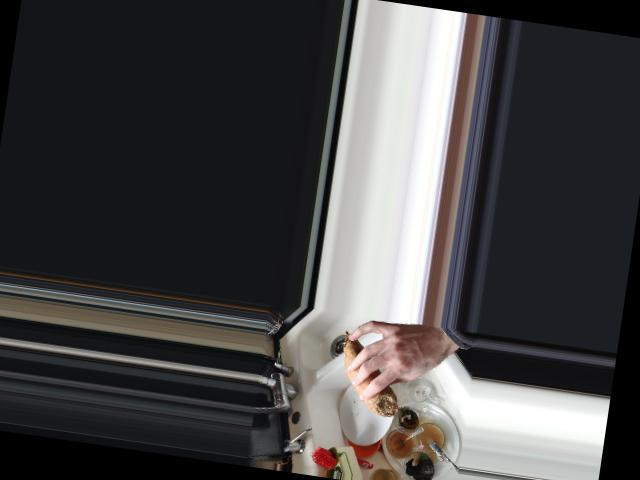sweet_potato: (335, 329, 407, 415)
